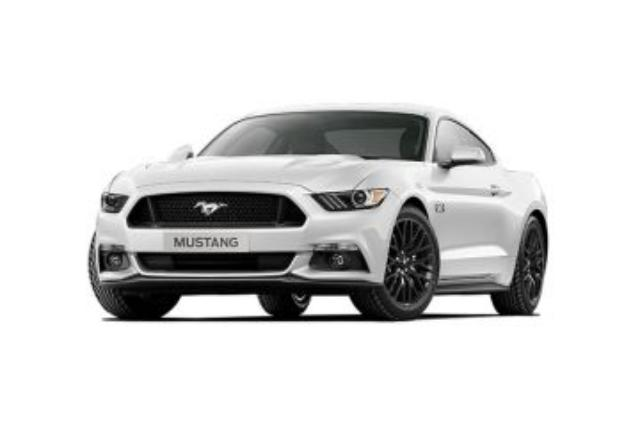ford-mustang: (88, 104, 550, 322)
